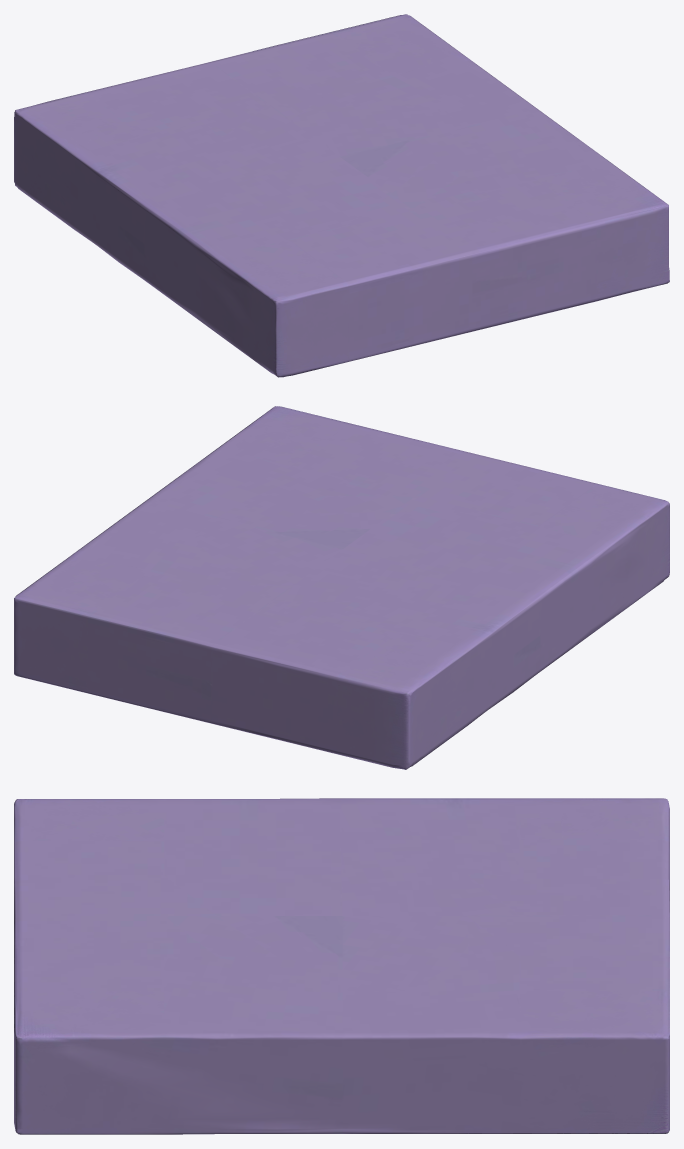
File: selected.glb
3 renders of one model, top to bottom at view 1: azimuth 30°, elevation 25°; view 2: azimuth 150°, elevation 25°; view 3: azimuth 270°, elevation 25°, orthographic. The views are drawn at different scales.
Parts seen in each view (by area): view 1: tripo_node_cb394b1d-b2f2-4b10-a124-ec8ab5f125cc; view 2: tripo_node_cb394b1d-b2f2-4b10-a124-ec8ab5f125cc; view 3: tripo_node_cb394b1d-b2f2-4b10-a124-ec8ab5f125cc.
Part boxes in pixels (<box>): tripo_node_cb394b1d-b2f2-4b10-a124-ec8ab5f125cc: <box>14,14,669,377</box>; tripo_node_cb394b1d-b2f2-4b10-a124-ec8ab5f125cc: <box>14,406,669,769</box>; tripo_node_cb394b1d-b2f2-4b10-a124-ec8ab5f125cc: <box>14,798,669,1134</box>.
Size of the model in its own units: 0.8652 by 0.166 by 0.998.
Materials: 1 (1 with a texture image).
